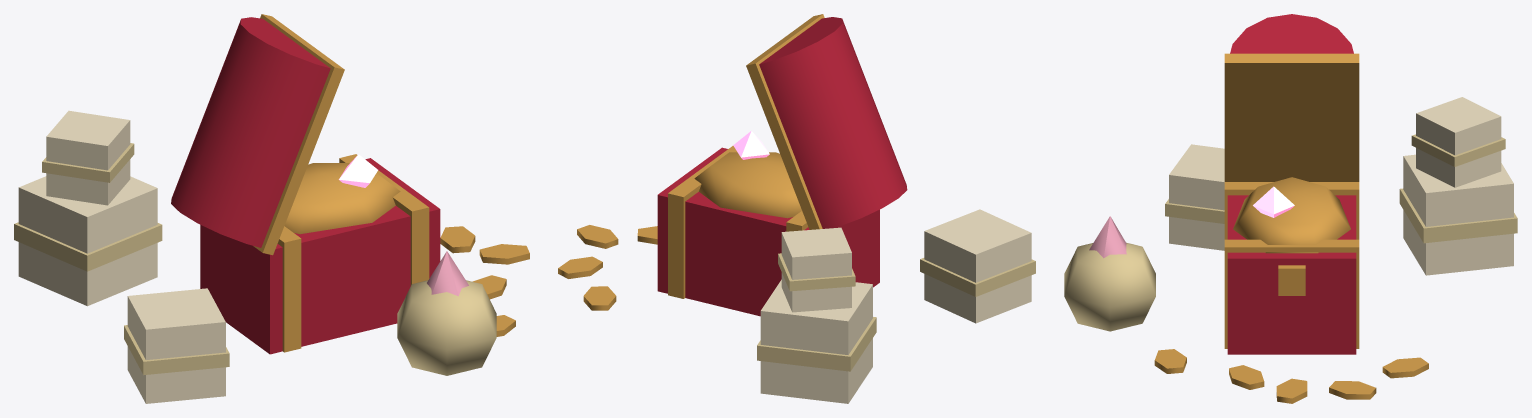
File: landmark_treasure.glb
3 renders of one model, left to right at view 1: azimuth 30°, elevation 25°; view 2: azimuth 150°, elevation 25°; view 3: azimuth 270°, elevation 25°, orthographic. The views are drawn at different scales.
Visible parts, largest first — view 1: chest_lid_shell, chest_body, crate_0_box, crate_1_box, sack, crate_2_box, chest_gold, chest, chest_lid_rim, crate_0_band, crate_1_band, crate_2_band (+5 smaller); view 2: chest_lid_shell, chest_body, crate_0_box, crate_1_box, chest_gold, crate_2_box, chest_lid_rim, chest, crate_0_band, crate_1_band, crate_2_band, coin_1 (+3 smaller); view 3: chest_lid_rim, chest_body, crate_0_box, sack, chest_gold, crate_2_box, crate_1_box, chest_lid_shell, chest, crate_0_band, crate_2_band, sack_tie (+8 smaller).
Boxes of the visible parts, x1,y1,x2,y2 form: chest_lid_shell: [171, 17, 330, 247]; chest_body: [200, 158, 440, 354]; crate_0_box: [18, 176, 157, 306]; crate_1_box: [127, 288, 225, 403]; sack: [397, 280, 496, 375]; crate_2_box: [46, 110, 130, 205]; chest_gold: [284, 163, 400, 234]; chest: [277, 154, 429, 352]; chest_lid_rim: [253, 14, 344, 255]; crate_0_band: [14, 222, 162, 271]; crate_1_band: [124, 325, 229, 375]; crate_2_band: [42, 143, 134, 182]; chest_lid_shell: [759, 17, 907, 228]; chest_body: [657, 147, 879, 316]; crate_0_box: [760, 279, 872, 403]; crate_1_box: [924, 209, 1031, 323]; chest_gold: [694, 152, 801, 218]; crate_2_box: [781, 227, 851, 312]; chest_lid_rim: [746, 14, 824, 229]; chest: [668, 146, 808, 298]; crate_0_band: [757, 317, 876, 371]; crate_1_band: [920, 258, 1035, 296]; crate_2_band: [778, 253, 855, 291]; coin_1: [558, 256, 602, 278]; chest_lid_rim: [1224, 53, 1359, 181]; chest_body: [1227, 195, 1356, 354]; crate_0_box: [1403, 154, 1513, 275]; sack: [1064, 242, 1155, 331]; chest_gold: [1233, 177, 1350, 253]; crate_2_box: [1416, 97, 1501, 187]; crate_1_box: [1169, 144, 1224, 250]; chest_lid_shell: [1230, 14, 1353, 53]; chest: [1224, 182, 1359, 348]; crate_0_band: [1399, 188, 1517, 243]; crate_2_band: [1411, 134, 1505, 166]; sack_tie: [1089, 216, 1126, 258].
Size of the model in its own units: 0.3093 by 0.1969 by 0.2992.
